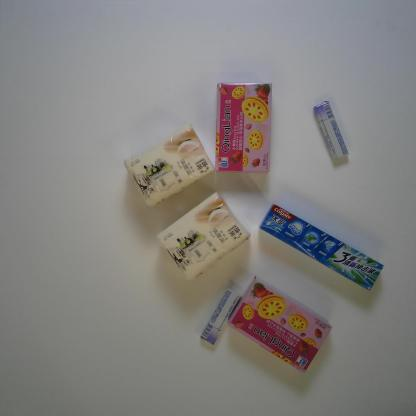Candy: (200, 288, 241, 346), (312, 100, 350, 160)
Dessert: (227, 275, 333, 375), (214, 82, 272, 173)
Personal Hygiene: (260, 204, 384, 291)
Tissue: (156, 191, 251, 283), (124, 123, 216, 207)
